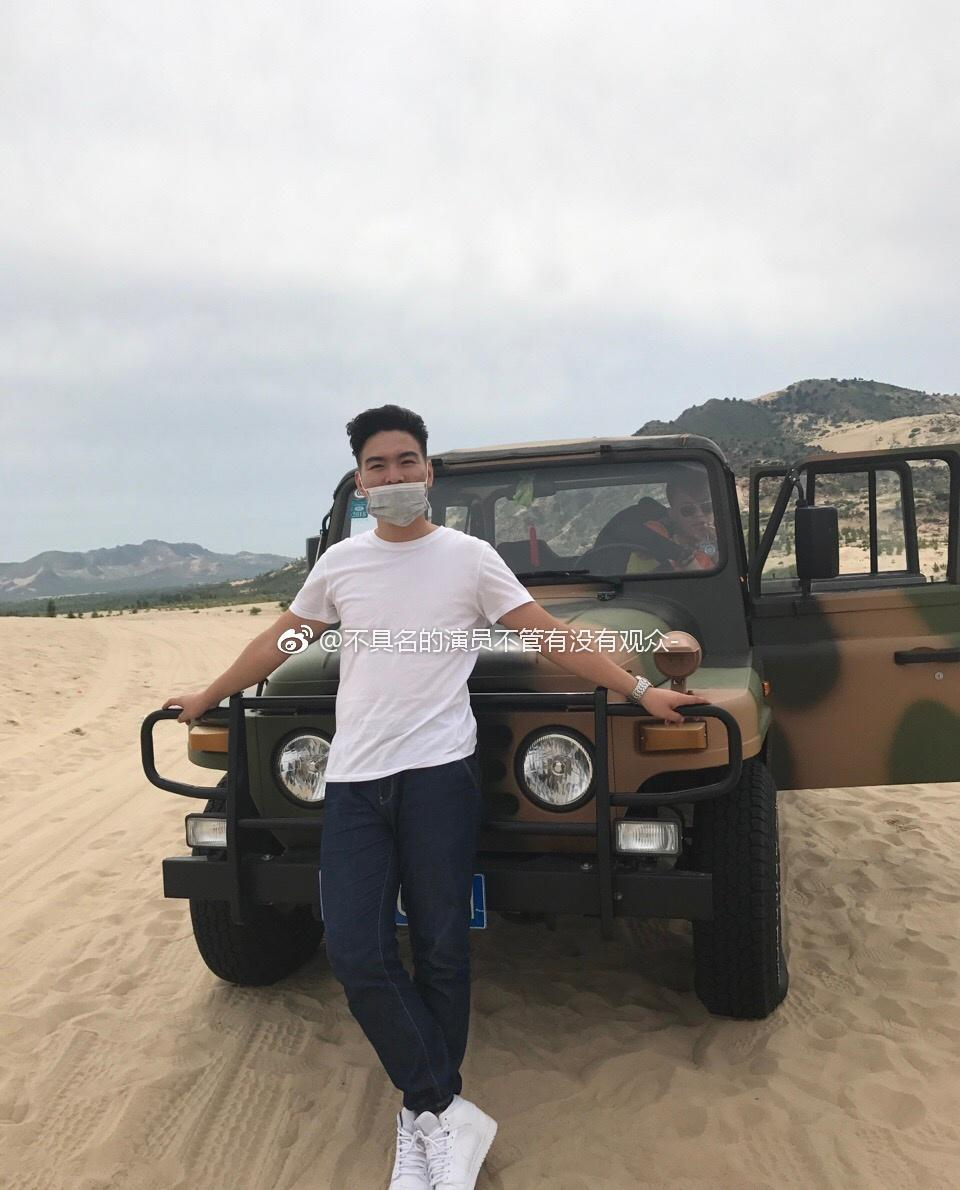NONE: (679, 496, 715, 535)
WRONG: (357, 450, 432, 525)
